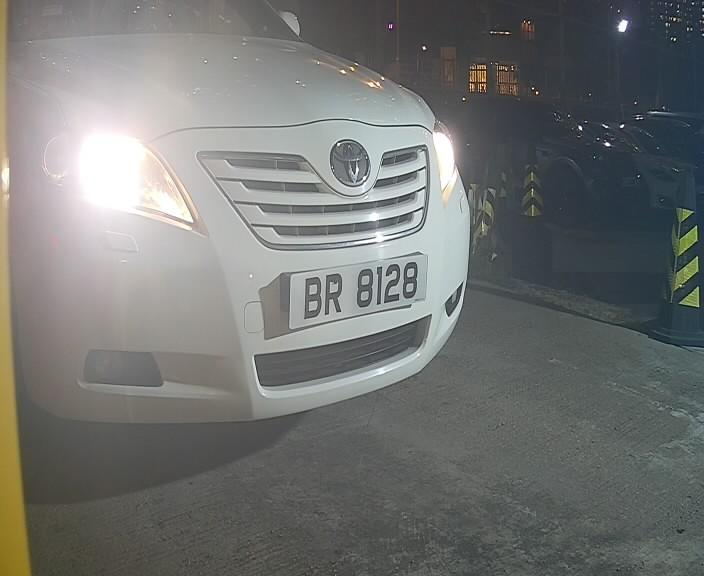License Plate: (283, 237, 431, 342)
